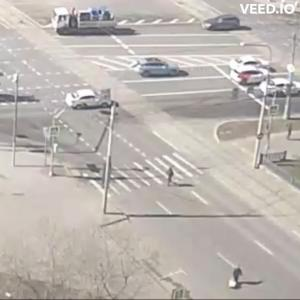car: (52, 7, 124, 39), (66, 90, 111, 112), (262, 76, 300, 98), (138, 61, 184, 79), (203, 15, 244, 33), (235, 69, 266, 87), (231, 53, 268, 68)
